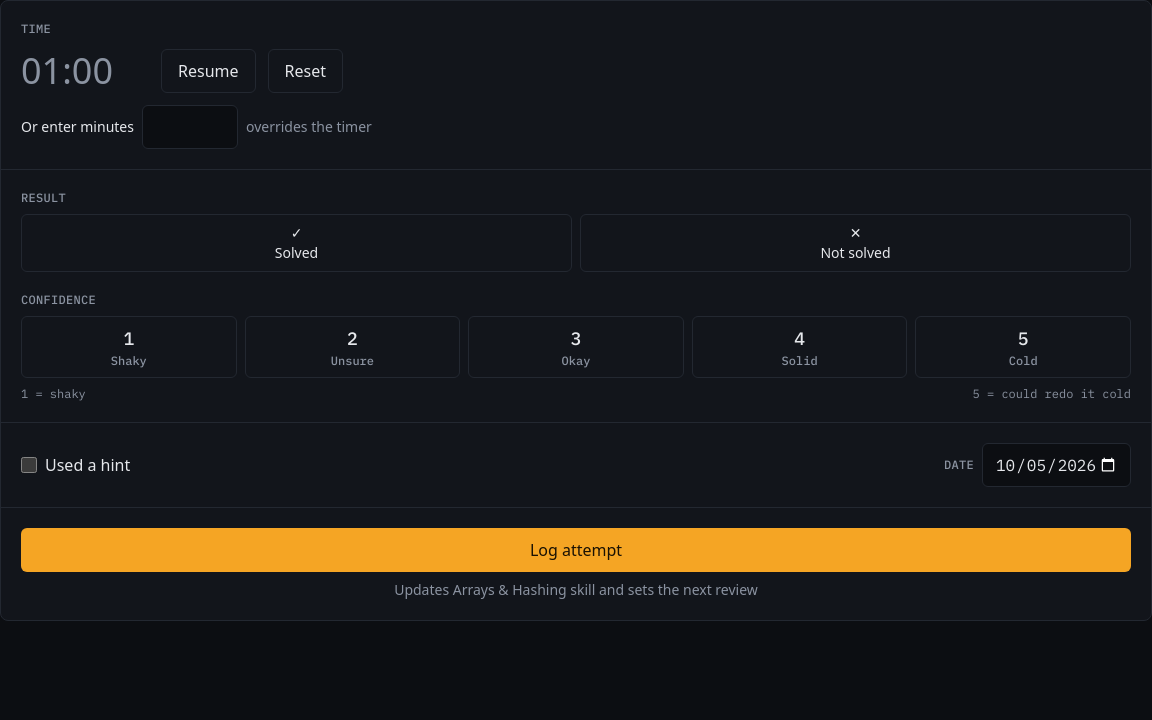
Test: a paused timer resumes without opening LeetCode again
Click the button "Resume" at (208,71), box [161,49,256,93]
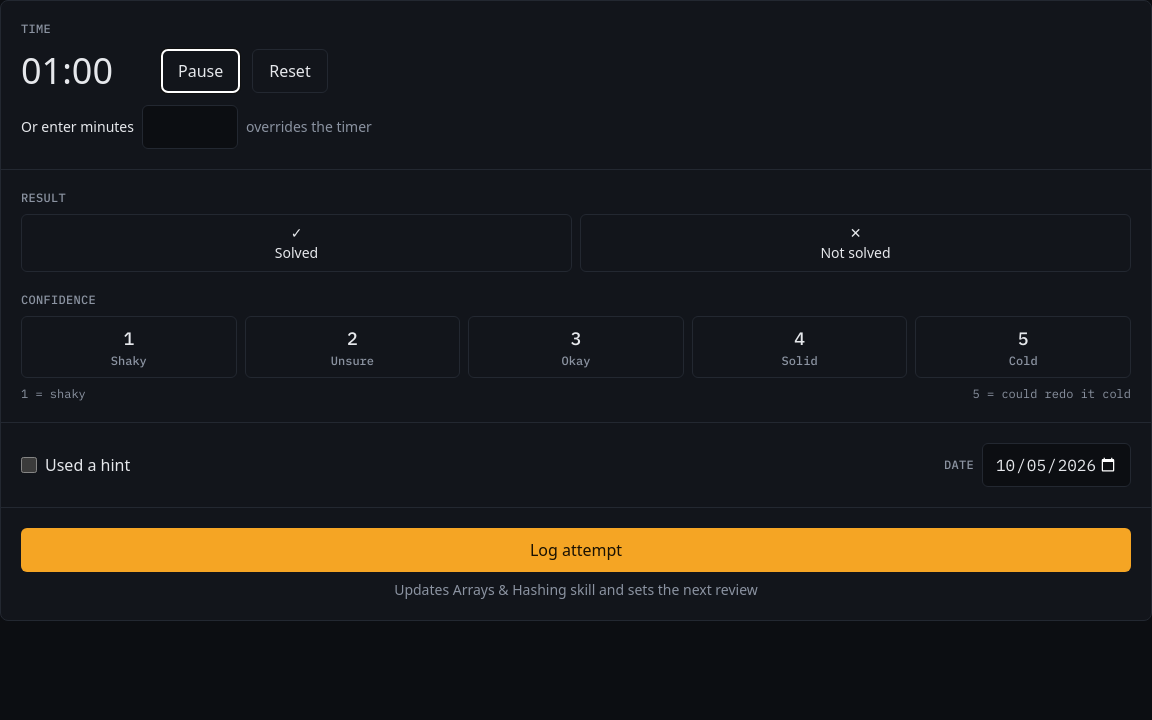
Check: the button "Pause" is shown, box [161,49,240,93]
